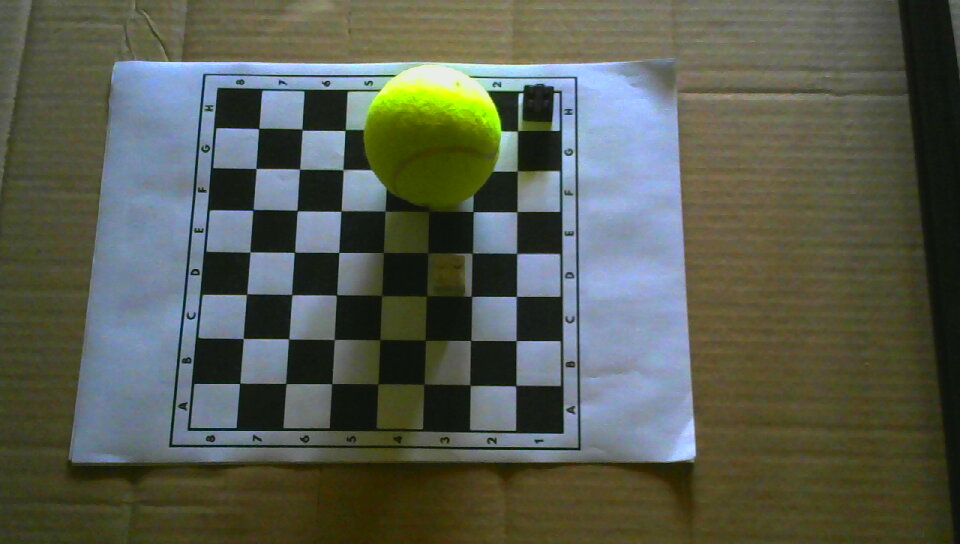bp: (521, 83, 556, 124)
wp: (431, 254, 467, 295)
